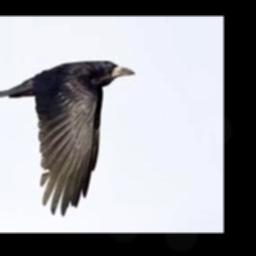Crow: (0, 60, 136, 214)
